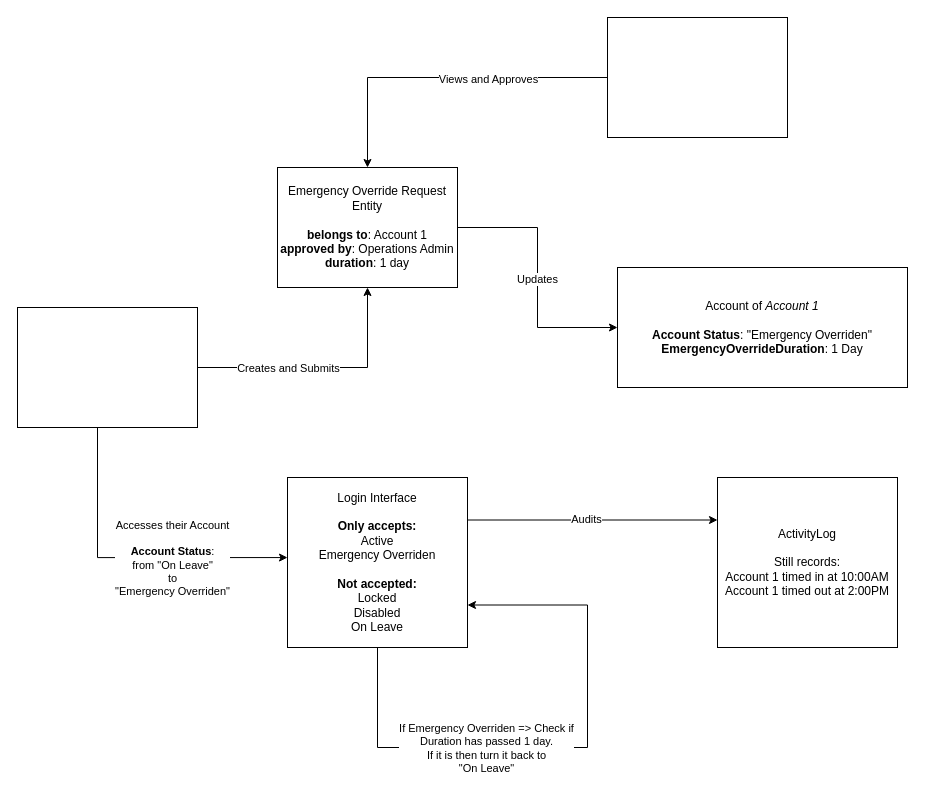
Some shapes in this 925 by 792 pixel diagram are drawn without their labels. The box of each missing label's shape, as (x1, y1, x2, y2) in pixels:
Account 1 Requests for Emergency Override: (16, 306, 198, 428)
Operations Admin will receive the Request: (606, 16, 788, 138)
